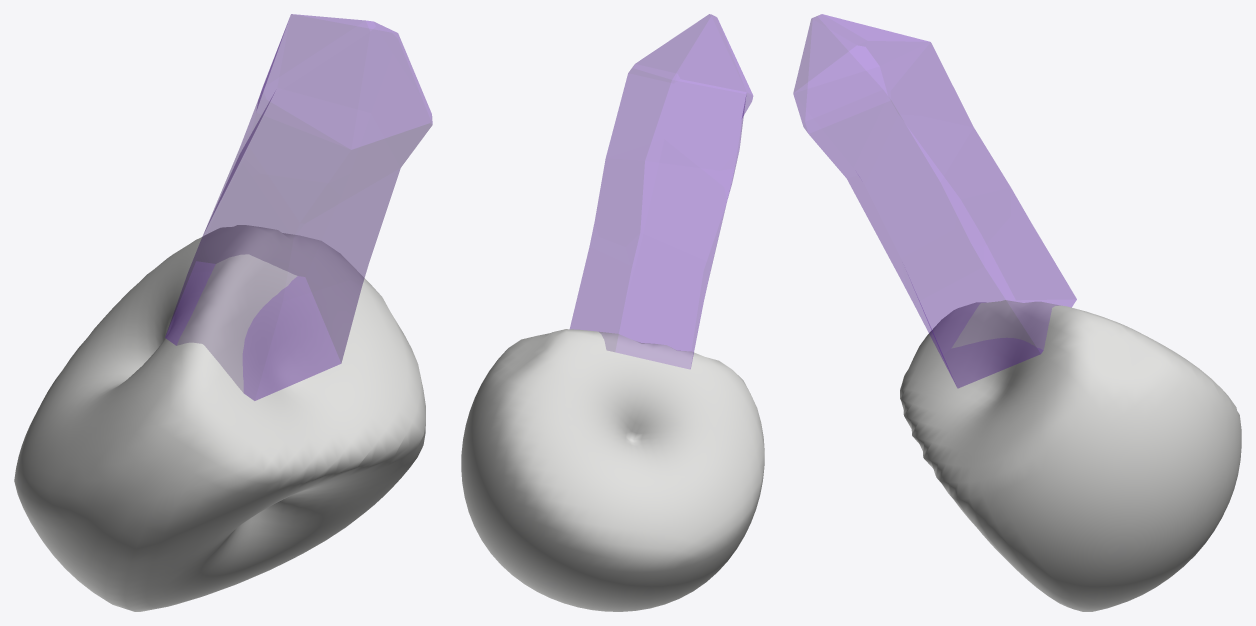
File: a-chasseur.glb
The picture shows the model from 3 angles, left to right: view 1: azimuth 30°, elevation 25°; view 2: azimuth 150°, elevation 25°; view 3: azimuth 270°, elevation 25°; orthographic projection. The views are drawn at different scales.
Visible parts, largest first — view 1: Cube, c1.001; view 2: Cube, c1.001; view 3: Cube, c1.001.
Part boxes in pixels (x1,y1,x2,y2): Cube: (14,225,425,611); c1.001: (165,14,432,400); Cube: (461,329,764,611); c1.001: (570,14,752,368); Cube: (900,300,1241,611); c1.001: (793,14,1076,388).
Bounding box in the file's own units: 4.25 × 7.83 × 5.45.
